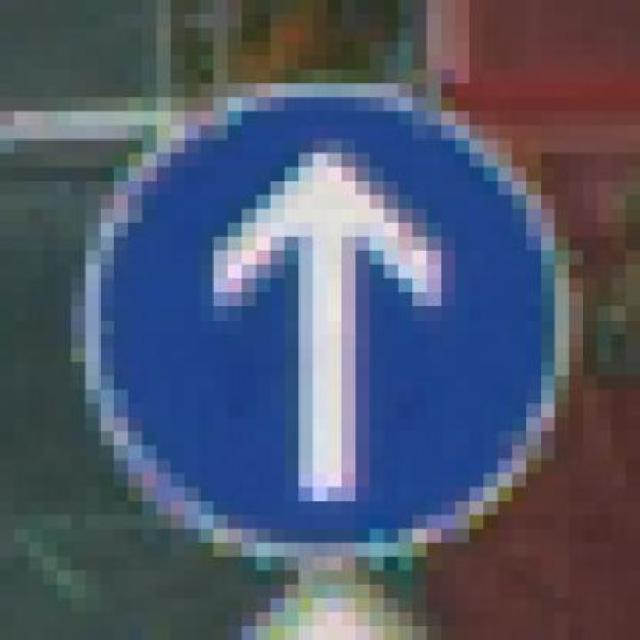Straight Ahead Only: (43, 83, 612, 585)
